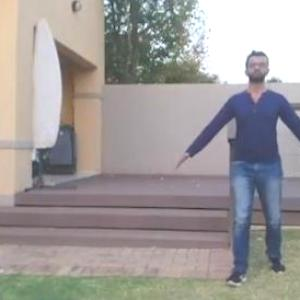land: (176, 55, 300, 281)
